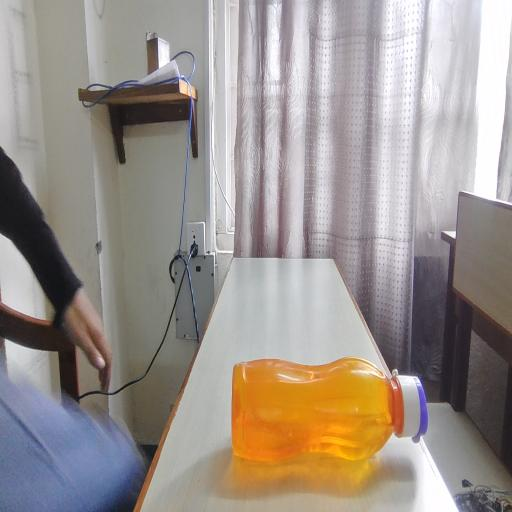Bottle: (210, 339, 446, 479)
